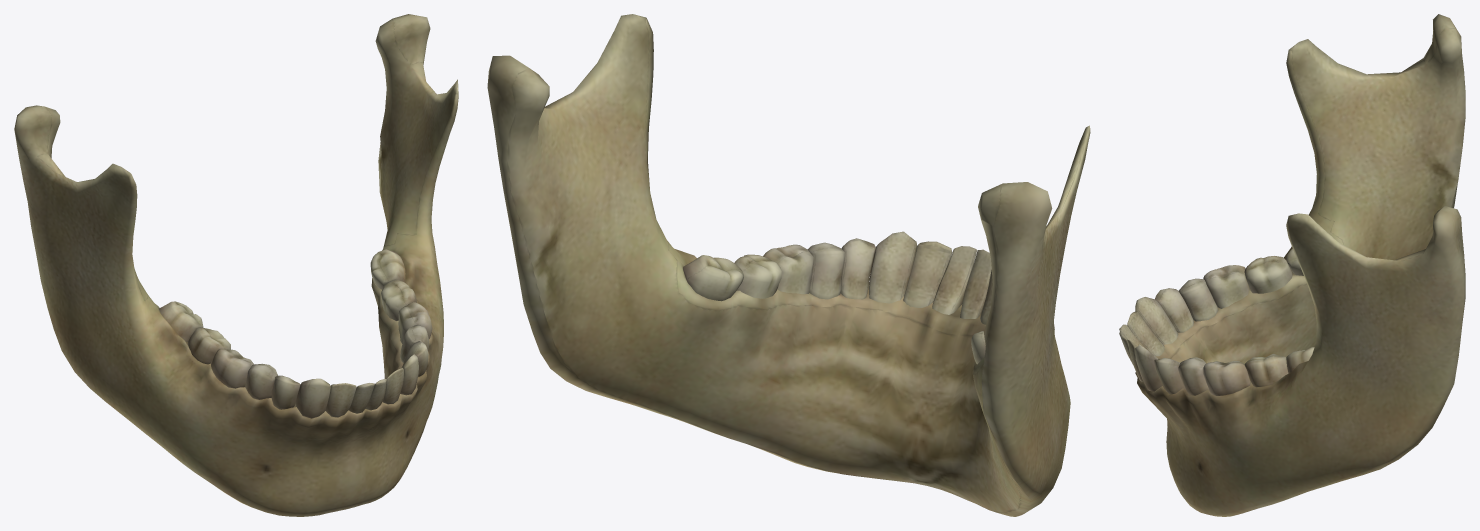
Rendered from Mandible.fbx.
The picture shows the model from 3 angles, left to right: view 1: azimuth 30°, elevation 25°; view 2: azimuth 150°, elevation 25°; view 3: azimuth 270°, elevation 25°; orthographic projection. The views are drawn at different scales.
Parts seen in each view (by area): view 1: Skeletal_Mandible; view 2: Skeletal_Mandible; view 3: Skeletal_Mandible.
Boxes of the visible parts, bbox=[...] form: Skeletal_Mandible: bbox=[14, 14, 458, 516]; Skeletal_Mandible: bbox=[487, 14, 1090, 516]; Skeletal_Mandible: bbox=[1119, 14, 1465, 516].
Size of the model in its own units: 11.48 by 9.51 by 7.96.
1 material, 1 textured.
